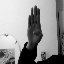b: (24, 3, 46, 46)
